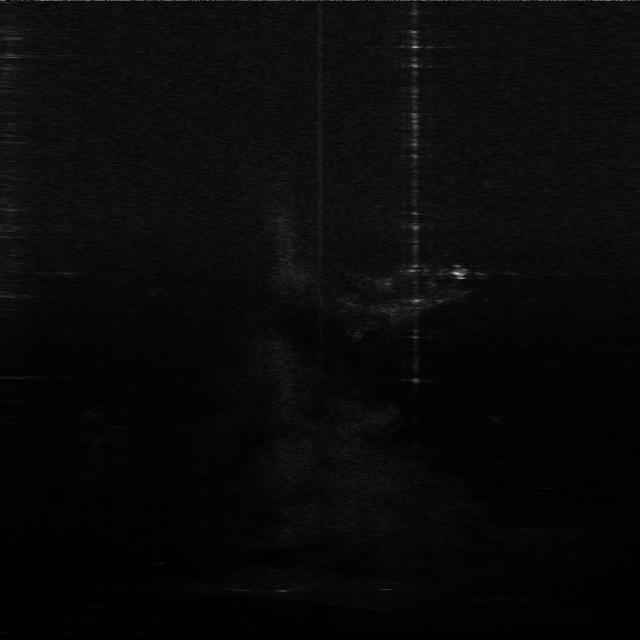rov: (447, 262, 473, 283)
